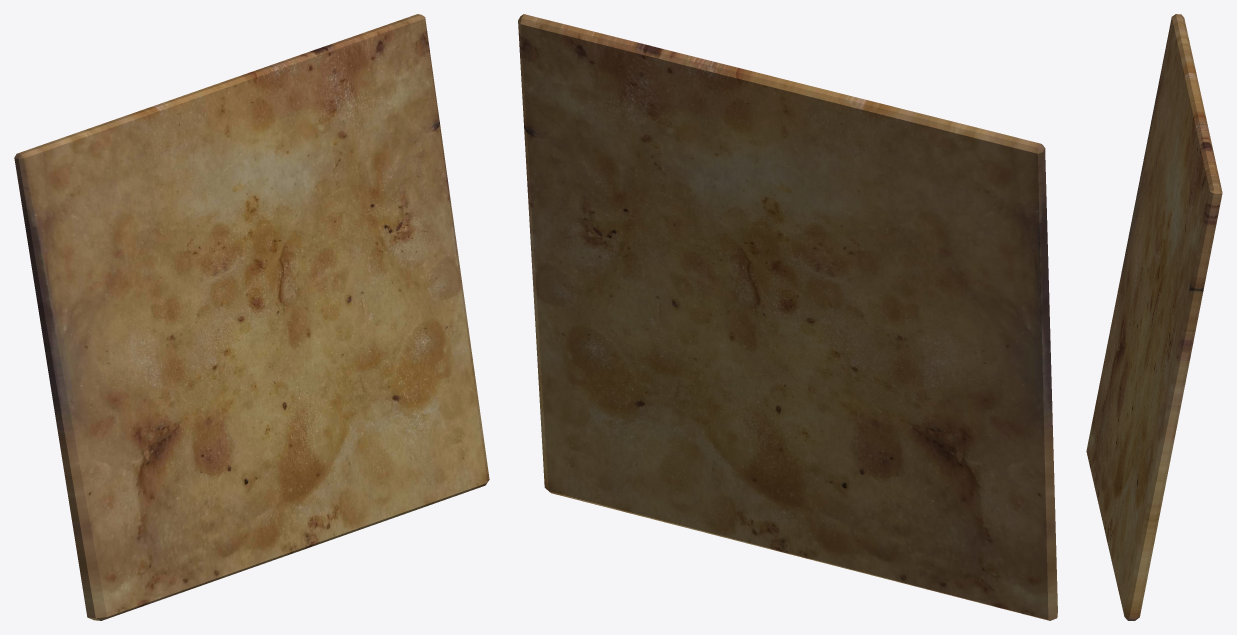
The model's file is paratha.glb.
The picture shows the model from 3 angles, left to right: view 1: azimuth 30°, elevation 25°; view 2: azimuth 150°, elevation 25°; view 3: azimuth 270°, elevation 25°; orthographic projection. The views are drawn at different scales.
Visible parts, largest first — view 1: Plane.003; view 2: Plane.003; view 3: Plane.003.
Part boxes in pixels (<box>): Plane.003: <box>14,14,489,620</box>; Plane.003: <box>518,14,1057,620</box>; Plane.003: <box>1086,14,1222,620</box>.
Bounding box in the file's own units: 4.04 × 4.02 × 1.11.
Materials: 1 (1 with a texture image).
